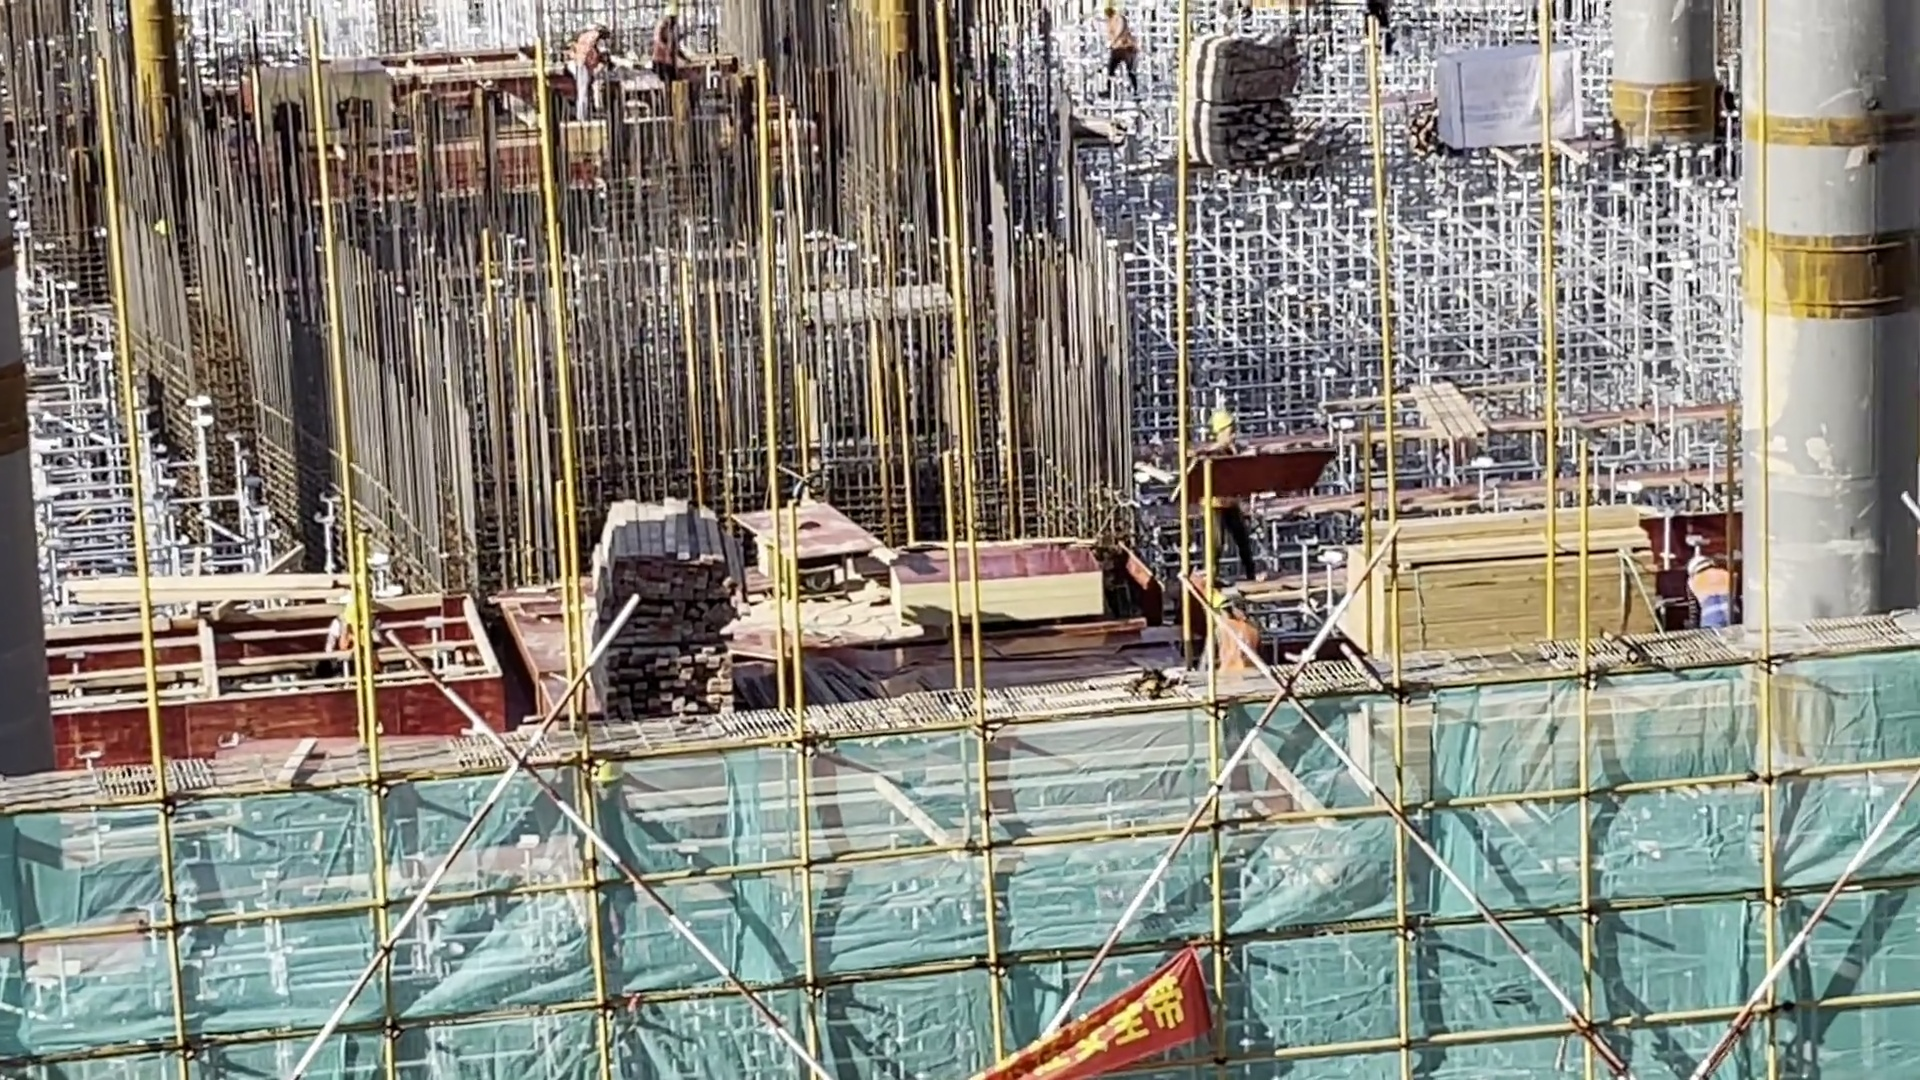helmet: (1203, 585, 1249, 615), (1686, 541, 1719, 580), (1208, 408, 1238, 439)
person: (1189, 401, 1270, 586), (1203, 586, 1277, 683), (1680, 548, 1745, 642)
vest: (1688, 566, 1737, 626), (1212, 619, 1260, 675)
